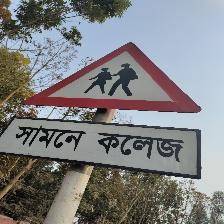College-in-front: (1, 17, 210, 191)
